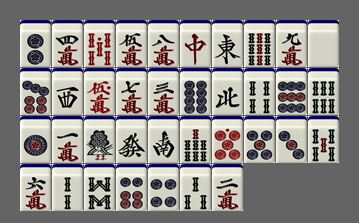0m: (84, 68, 115, 115)
0p: (212, 116, 243, 163)
0s: (84, 20, 115, 67)
1m: (52, 116, 83, 163)
1p: (20, 116, 51, 163)
1s: (84, 116, 115, 163)
1z: (212, 20, 243, 67)
2m: (212, 164, 243, 211)
2p: (20, 20, 51, 67)
2s: (52, 164, 83, 211)
2z: (148, 116, 179, 163)
3m: (148, 68, 179, 115)
3p: (276, 116, 307, 163)
3s: (180, 164, 211, 211)
3z: (52, 68, 83, 115)
4m: (52, 20, 83, 67)
4p: (148, 164, 179, 211)
4s: (244, 68, 275, 115)
4z: (212, 68, 243, 115)
5m: (116, 20, 147, 67)
5p: (244, 116, 275, 163)
5s: (308, 116, 339, 163)
5z: (308, 20, 339, 67)
6m: (20, 164, 51, 211)
6p: (116, 164, 147, 211)
6s: (308, 68, 339, 115)
6z: (116, 116, 147, 163)
7m: (116, 68, 147, 115)
7p: (20, 68, 51, 115)
7s: (180, 116, 211, 163)
7z: (180, 20, 211, 67)
8m: (148, 20, 179, 67)
8p: (180, 68, 211, 115)
8s: (84, 164, 115, 211)
9m: (276, 20, 307, 67)
9p: (276, 68, 307, 115)
9s: (244, 20, 275, 67)
